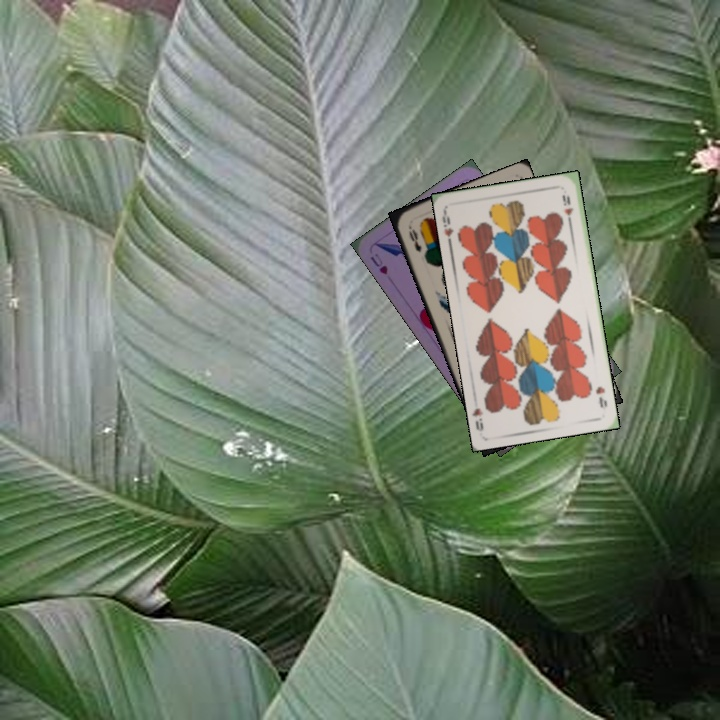EO: (404, 221, 424, 255)
H9: (438, 207, 456, 248), (591, 382, 610, 410)
HU: (366, 249, 391, 277)
